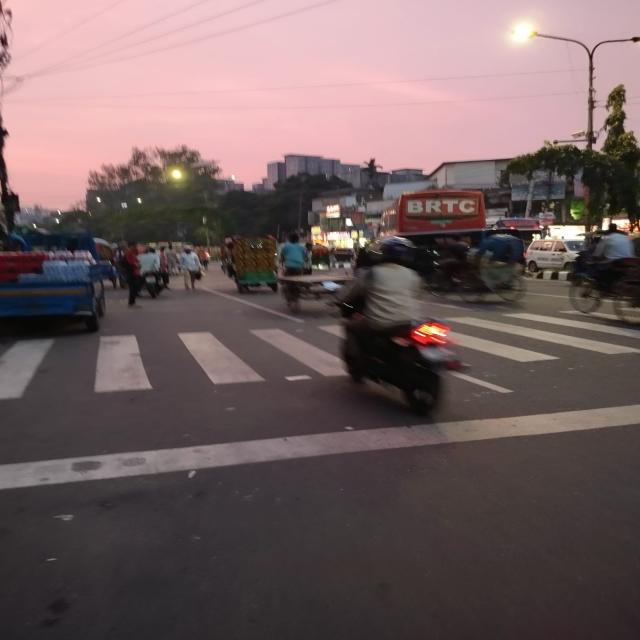person: (123, 242, 141, 308), (180, 246, 202, 290)
